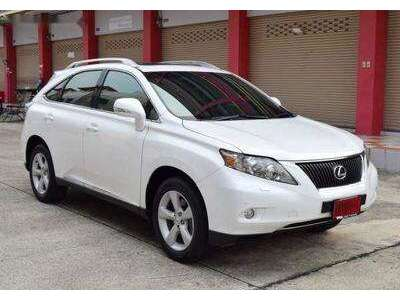pickup: (21, 59, 379, 263)
